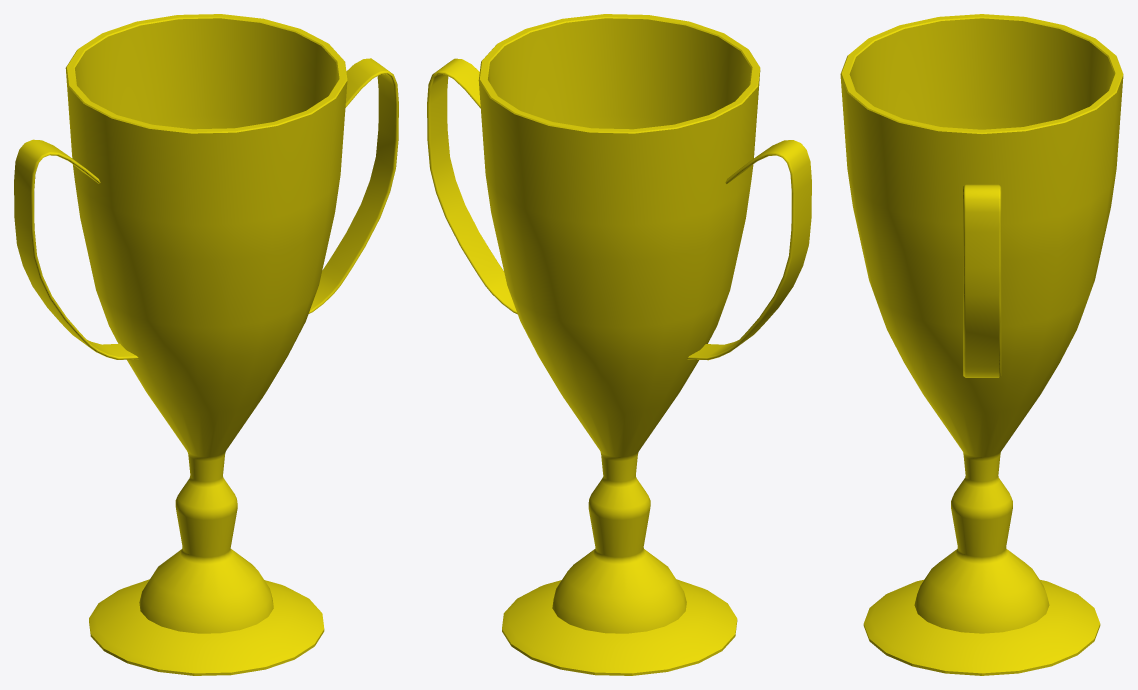
File: Trophy.fbx
3 views of the same model, side by side, from view 1: azimuth 30°, elevation 25°; view 2: azimuth 150°, elevation 25°; view 3: azimuth 270°, elevation 25° (orthographic).
Visible parts, largest first — view 1: Trophy; view 2: Trophy; view 3: Trophy.
Part boxes in pixels (x1=…): Trophy: x1=14, y1=14, x2=398, y2=675; Trophy: x1=427, y1=14, x2=811, y2=675; Trophy: x1=840, y1=14, x2=1123, y2=675.
Size of the model in its own units: 63.31 by 90.85 by 42.17.
